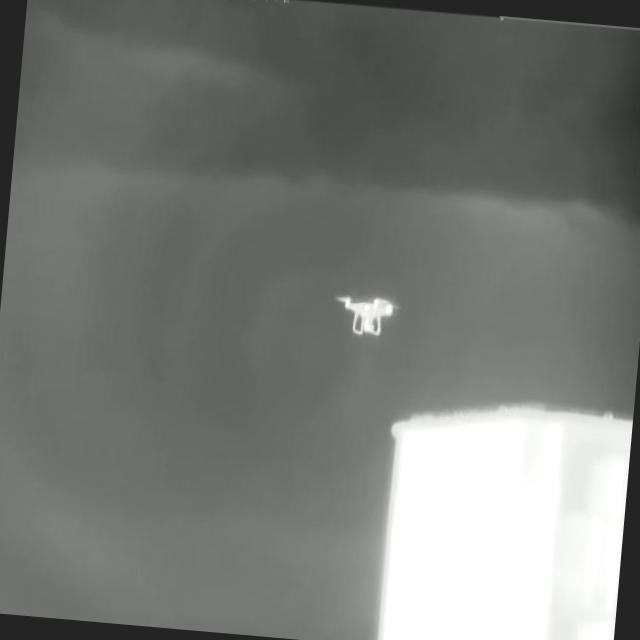DRONE: (332, 290, 403, 337)
